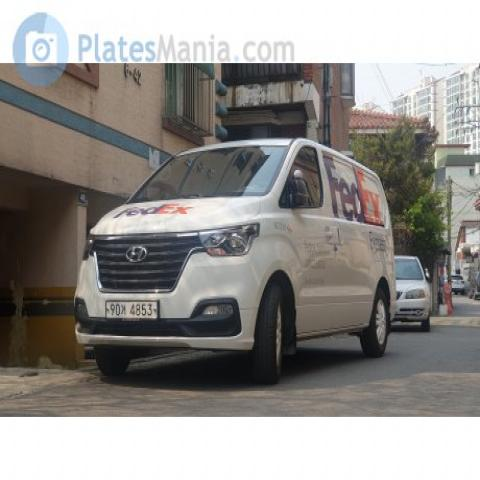LP: (103, 294, 163, 321)
